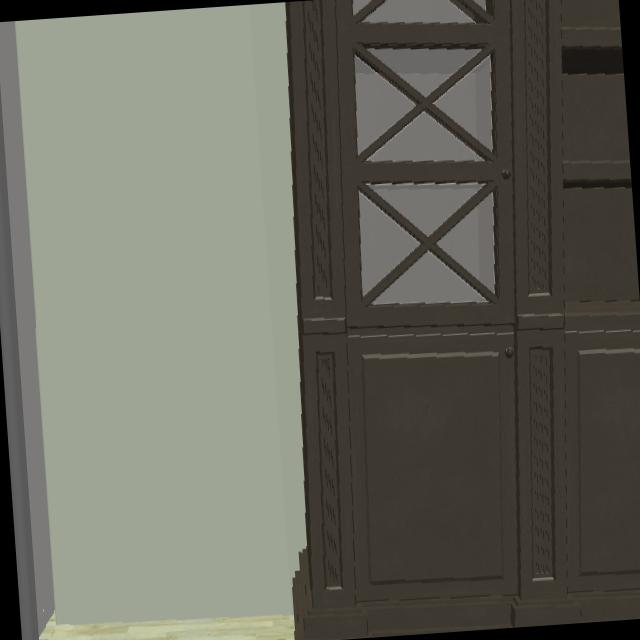bookshelf: (285, 0, 640, 640)
